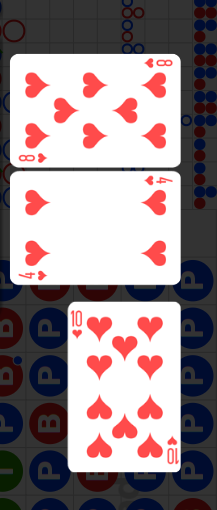10H: (164, 434, 178, 466)
4H: (17, 268, 49, 282)
8H: (142, 56, 174, 70)
